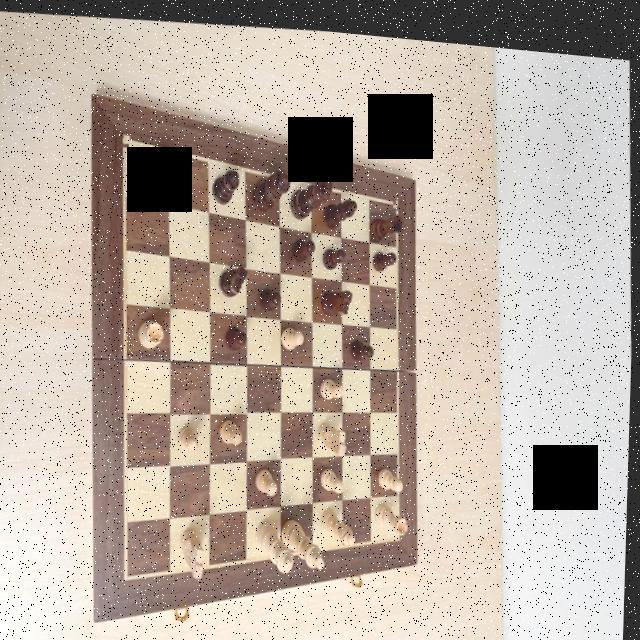chess-table-corners: (120, 131, 128, 145), (124, 569, 134, 580), (396, 524, 404, 536), (392, 191, 400, 202)
